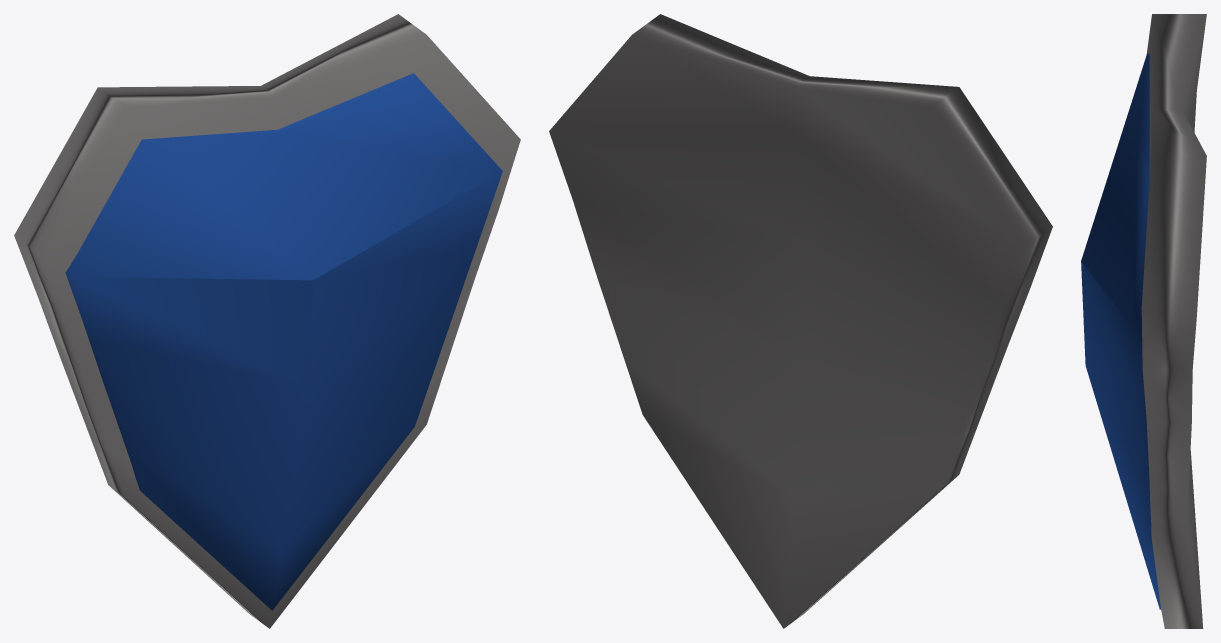
File: shield power.fbx
The picture shows the model from 3 angles, left to right: view 1: azimuth 30°, elevation 25°; view 2: azimuth 150°, elevation 25°; view 3: azimuth 270°, elevation 25°; orthographic projection. The views are drawn at different scales.
Parts seen in each view (by area): view 1: Cube, Cube.001; view 2: Cube.001; view 3: Cube.001, Cube.
Boxes of the visible parts, x1,y1,x2,y2 form: Cube: (65,73,502,610); Cube.001: (14,14,520,628); Cube.001: (549,14,1052,628); Cube.001: (1141,14,1206,628); Cube: (1081,53,1160,609).
Size of the model in its own units: 237 by 266 by 55.85.
